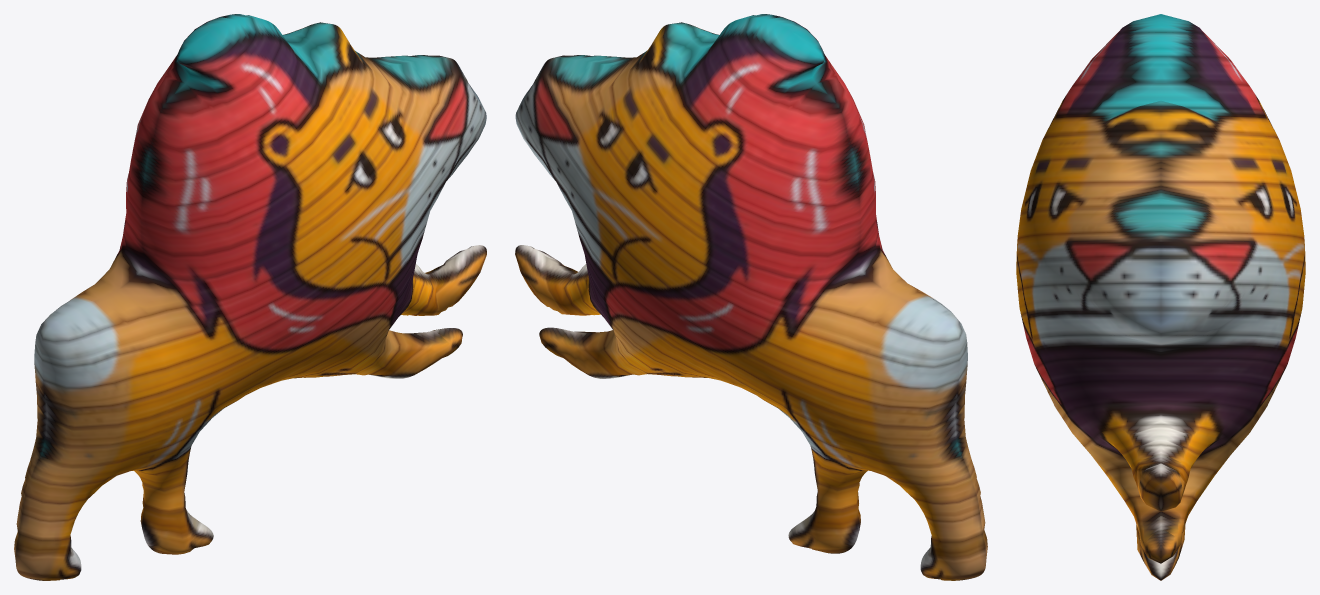
Rendered from LionAnim.glb.
3 renders of one model, left to right at view 1: azimuth 30°, elevation 25°; view 2: azimuth 150°, elevation 25°; view 3: azimuth 270°, elevation 25°, orthographic. The views are drawn at different scales.
Size of the model in its own units: 2.21 by 2.33 by 1.06.
1 material, 1 textured.
